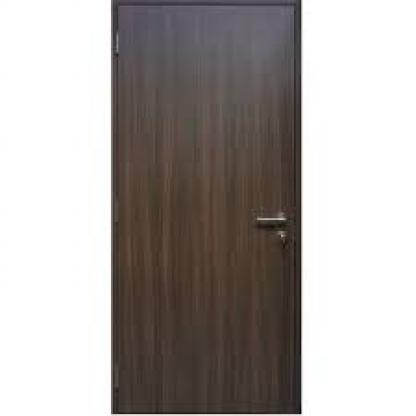door: (113, 2, 298, 414)
